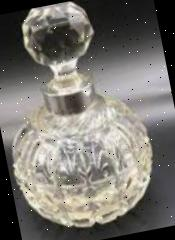glass: (0, 0, 166, 240)
